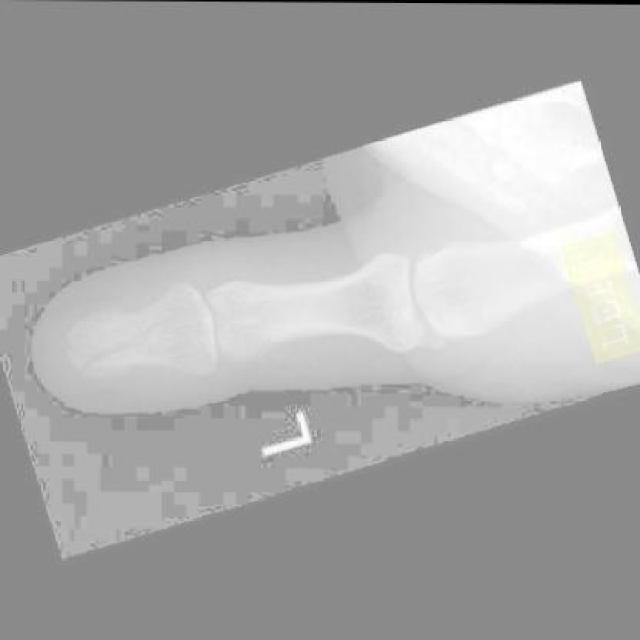Fracture: (66, 300, 180, 396)
